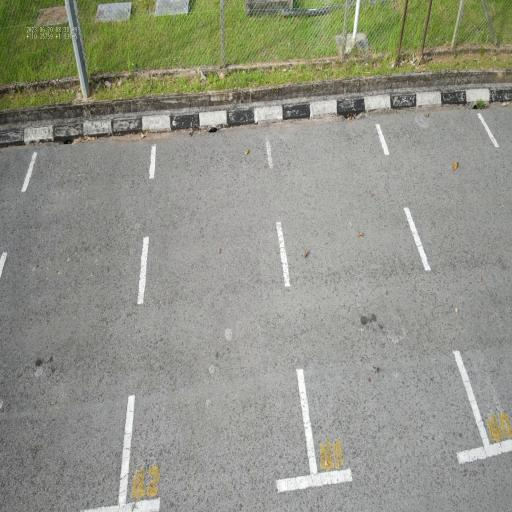Empty: (263, 115, 496, 490), (116, 110, 320, 512)
